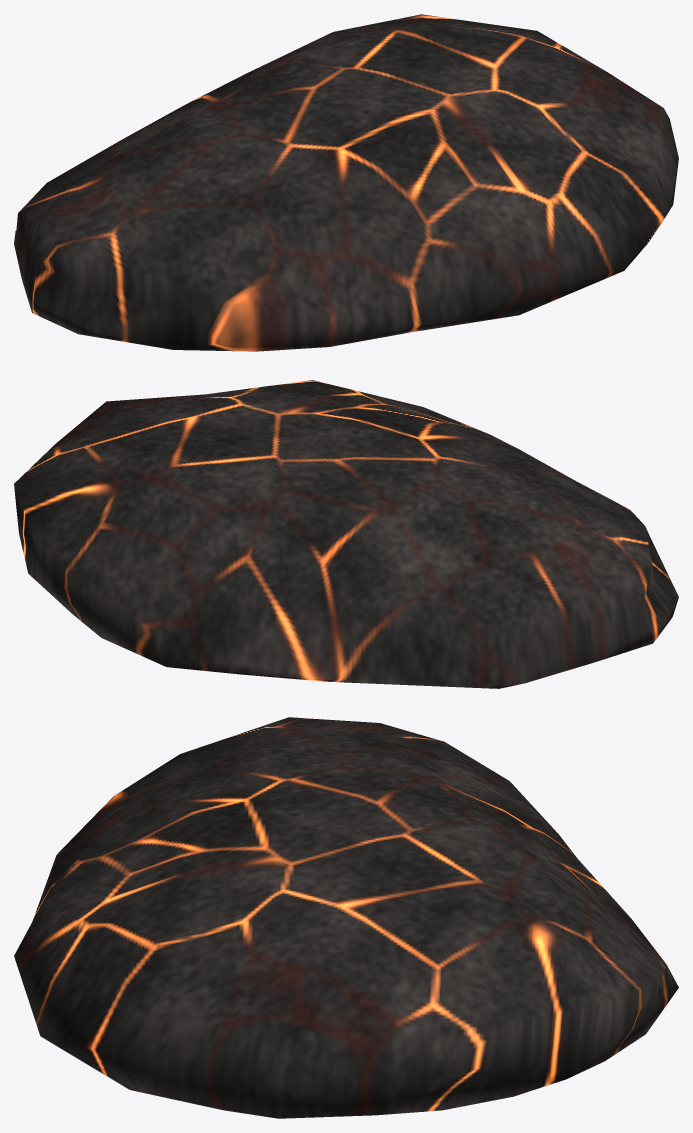
Rendered from rock_volcanic_lava_a.glb.
The picture shows the model from 3 angles, top to bottom: view 1: azimuth 30°, elevation 25°; view 2: azimuth 150°, elevation 25°; view 3: azimuth 270°, elevation 25°; orthographic projection. The views are drawn at different scales.
Parts seen in each view (by area): view 1: rock_volcanic_lava_a; view 2: rock_volcanic_lava_a; view 3: rock_volcanic_lava_a.
Boxes of the visible parts, x1,y1,x2,y2 form: rock_volcanic_lava_a: [14, 14, 678, 351]; rock_volcanic_lava_a: [14, 380, 678, 688]; rock_volcanic_lava_a: [14, 717, 678, 1118].
Bounding box in the file's own units: 3 × 0.6047 × 2.33.
Materials: 1 (1 with a texture image).
